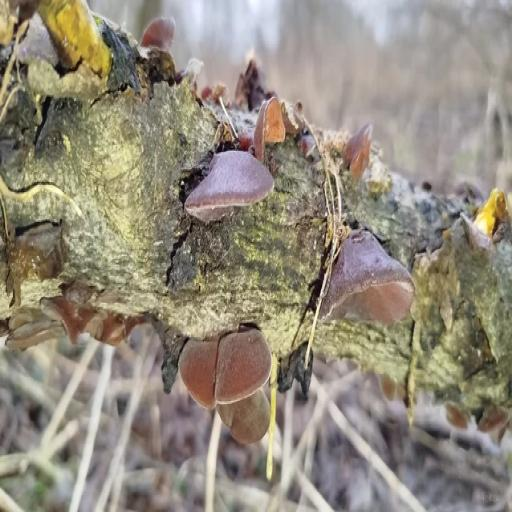Wood Ear Mushroom: (178, 328, 280, 463), (315, 225, 415, 352), (182, 141, 274, 226), (133, 12, 183, 52), (339, 123, 374, 170)
